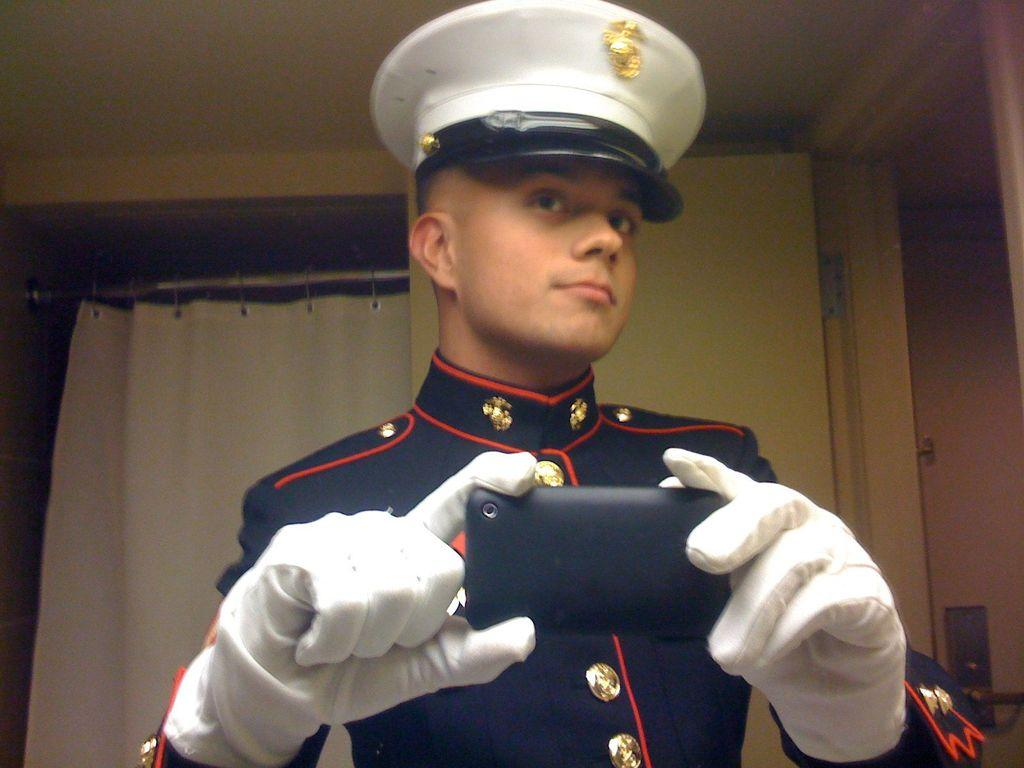Hat: (370, 0, 708, 224)
